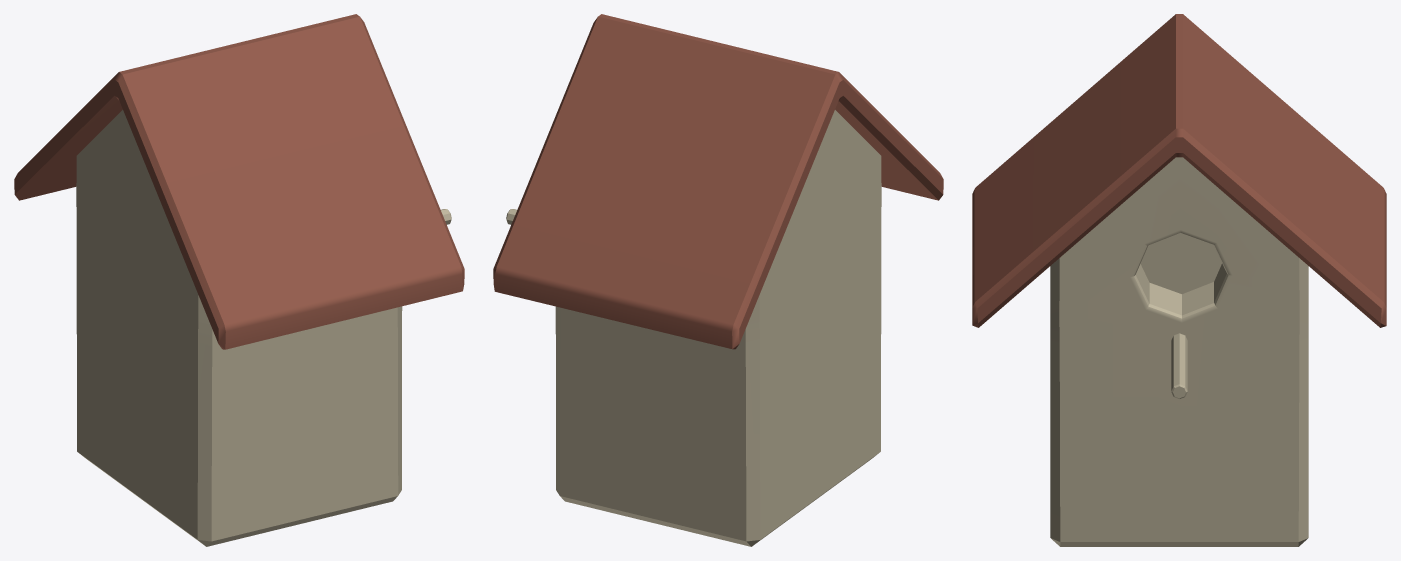
File: Nid.fbx
The picture shows the model from 3 angles, left to right: view 1: azimuth 30°, elevation 25°; view 2: azimuth 150°, elevation 25°; view 3: azimuth 270°, elevation 25°; orthographic projection.
Parts seen in each view (by area): view 1: Nid; view 2: Nid; view 3: Nid.
Boxes of the visible parts, <box> form: Nid: <box>14,14,464,546</box>; Nid: <box>493,14,943,546</box>; Nid: <box>972,14,1386,546</box>.
Size of the model in its own units: 45.66 by 57.29 by 49.94.
